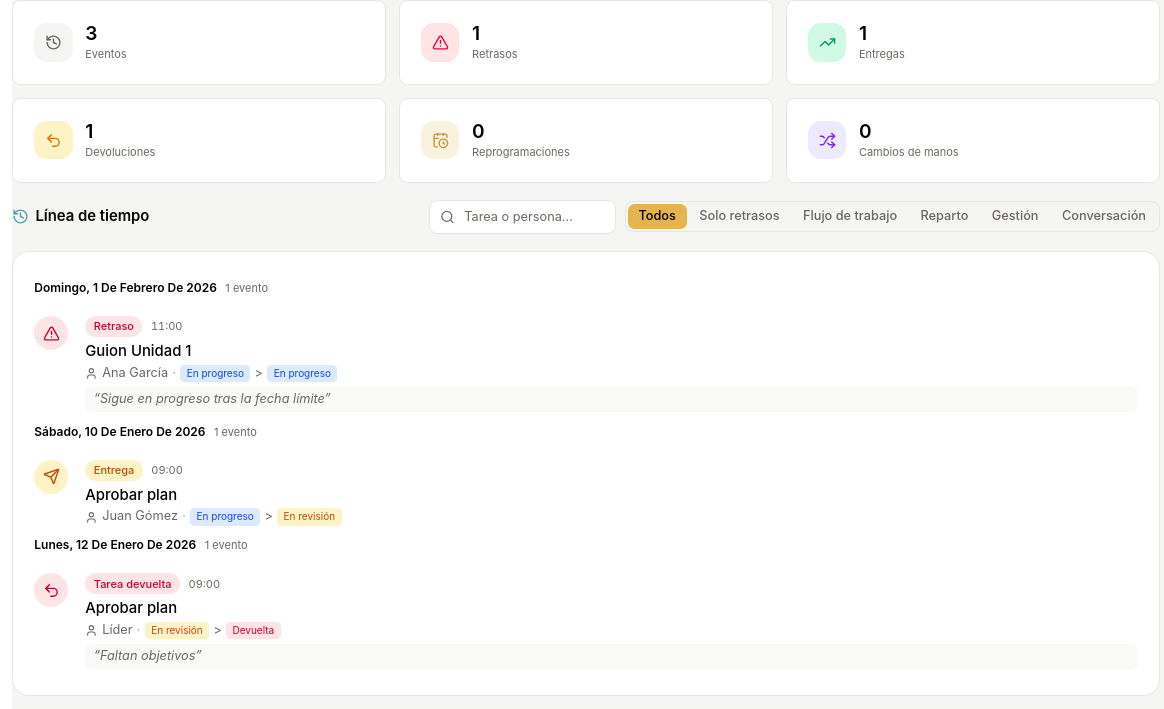
Test: TraceabilityPanel › filters to only delays when toggled
Step 1. Click the button "Solo retrasos" → (740, 217), box x1=689 y1=204 x2=790 y2=229
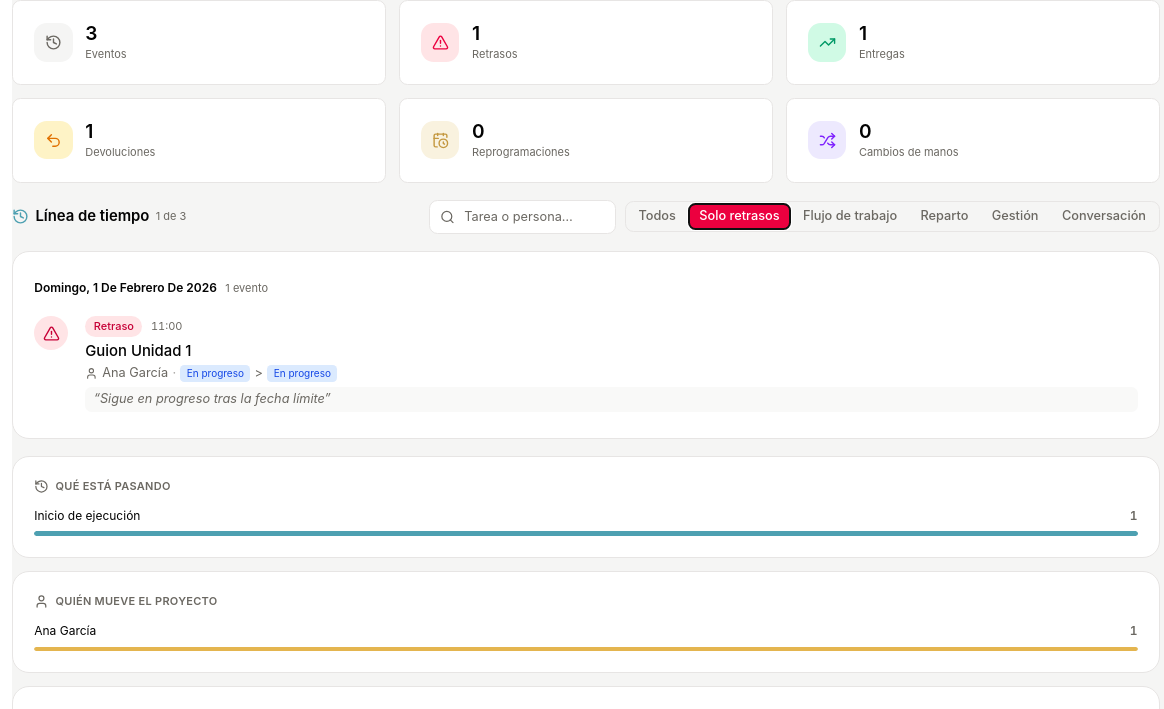
Expected: the text "Guion Unidad 1" is shown, x1=85 y1=342 x2=192 y2=360
Expected: the text "Tarea devuelta" is gone
